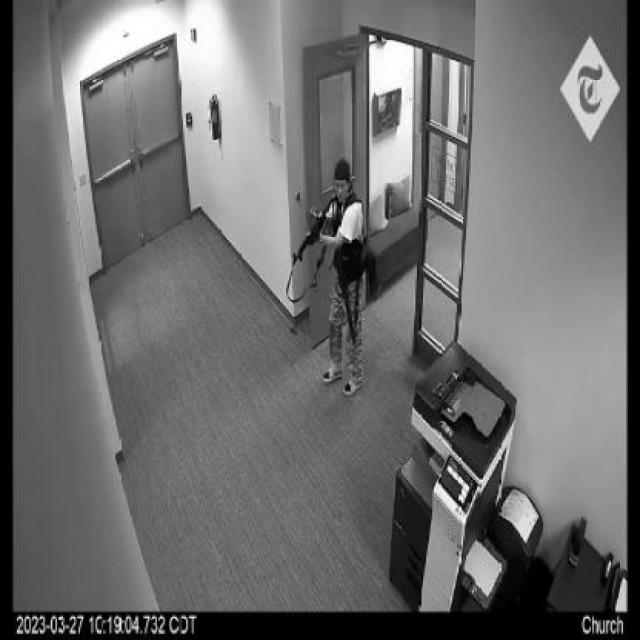weapon: (292, 196, 337, 266)
